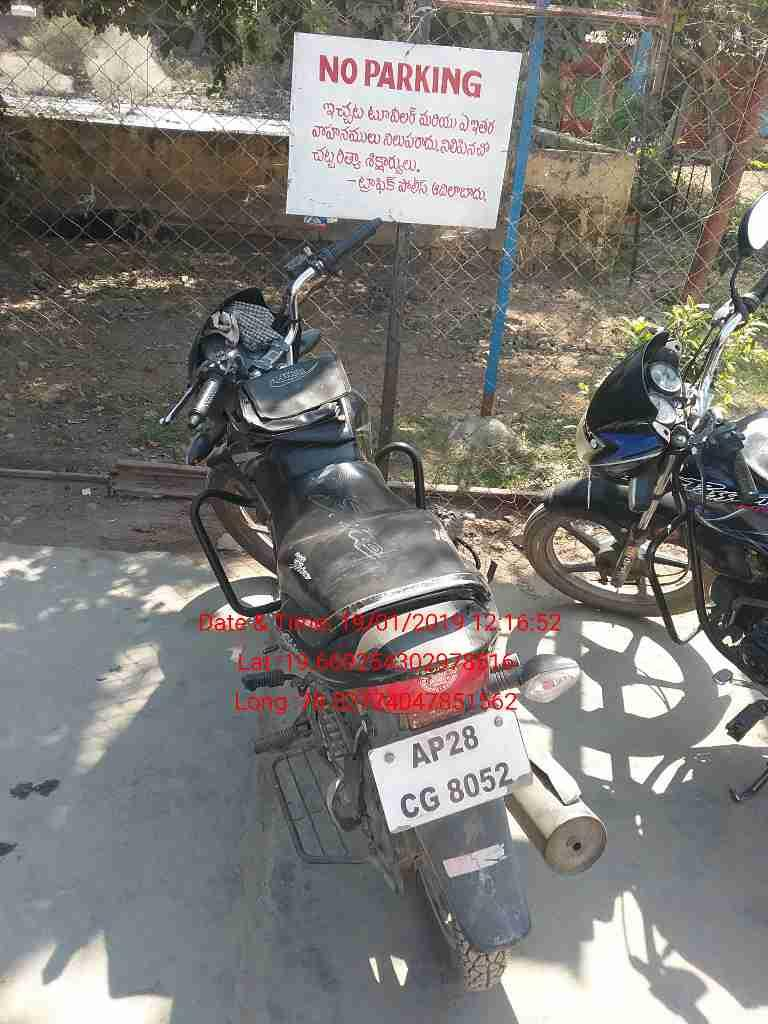plate: (361, 708, 535, 836)
